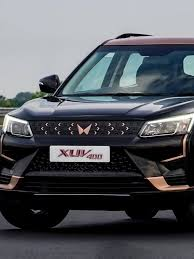XUV 400: (2, 31, 194, 235)
